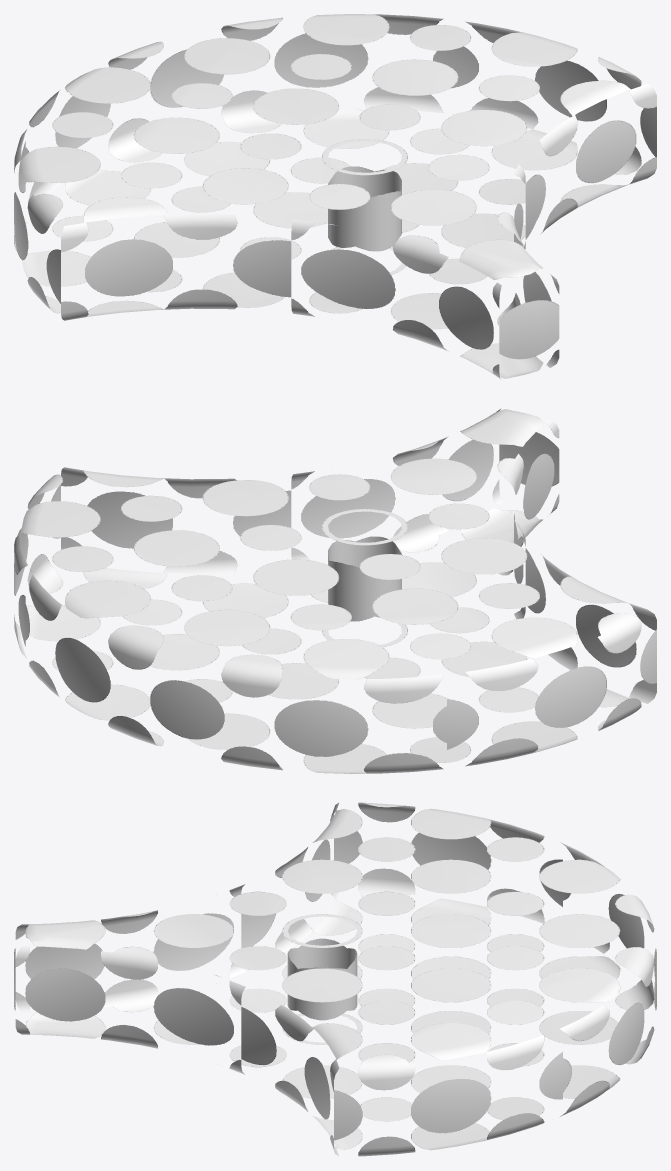
The picture shows the model from 3 angles, top to bottom: view 1: azimuth 30°, elevation 25°; view 2: azimuth 150°, elevation 25°; view 3: azimuth 270°, elevation 25°; orthographic projection. The views are drawn at different scales.
Visible parts, largest first — view 1: OriginalScallop.004; view 2: OriginalScallop.004; view 3: OriginalScallop.004.
Boxes of the visible parts, bbox=[...] form: OriginalScallop.004: bbox=[14, 14, 656, 379]; OriginalScallop.004: bbox=[14, 408, 656, 773]; OriginalScallop.004: bbox=[14, 802, 656, 1156].
Size of the model in its own units: 433 by 72.02 by 434.
